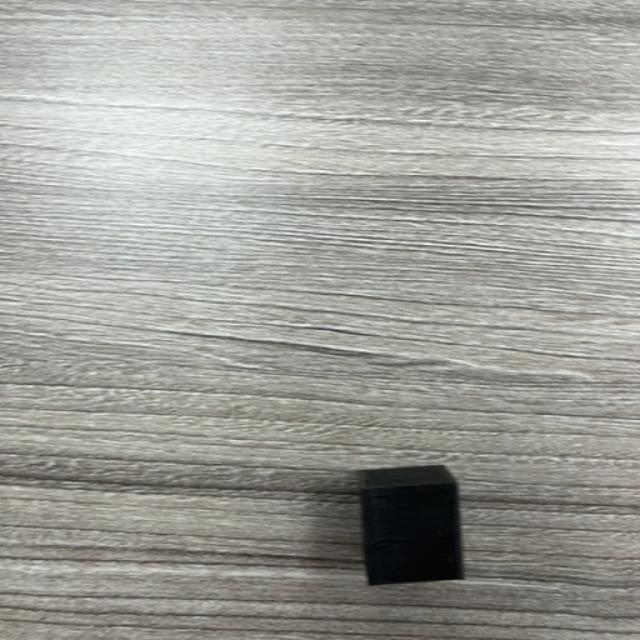Negro: (360, 465, 464, 588)
